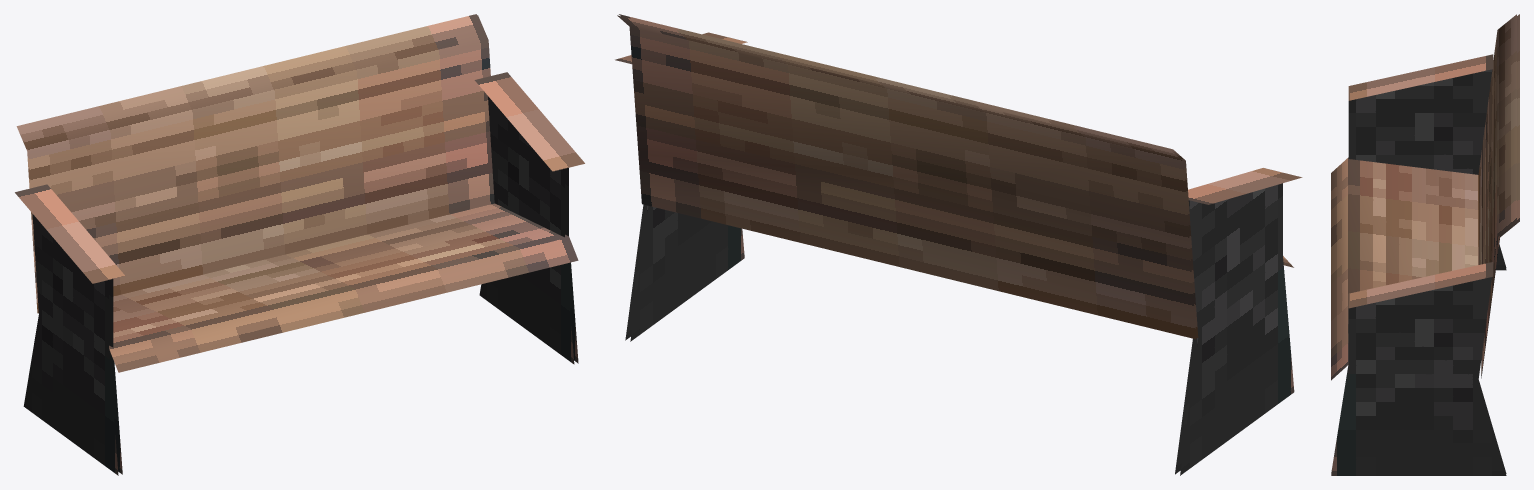
Rendered from Environment - Prop - Park Bench - PMPrkBnch02.glb.
3 views of the same model, side by side, from view 1: azimuth 30°, elevation 25°; view 2: azimuth 150°, elevation 25°; view 3: azimuth 270°, elevation 25° (orthographic). The views are drawn at different scales.
Parts seen in each view (by area): view 1: PMPRKBNCH02; view 2: PMPRKBNCH02; view 3: PMPRKBNCH02.
Boxes of the visible parts, bbox=[...] form: PMPRKBNCH02: bbox=[15, 14, 584, 475]; PMPRKBNCH02: bbox=[615, 14, 1302, 475]; PMPRKBNCH02: bbox=[1331, 14, 1519, 475].
Bounding box in the file's own units: 12.45 × 6.64 × 4.46.
Materials: 1 (1 with a texture image).
